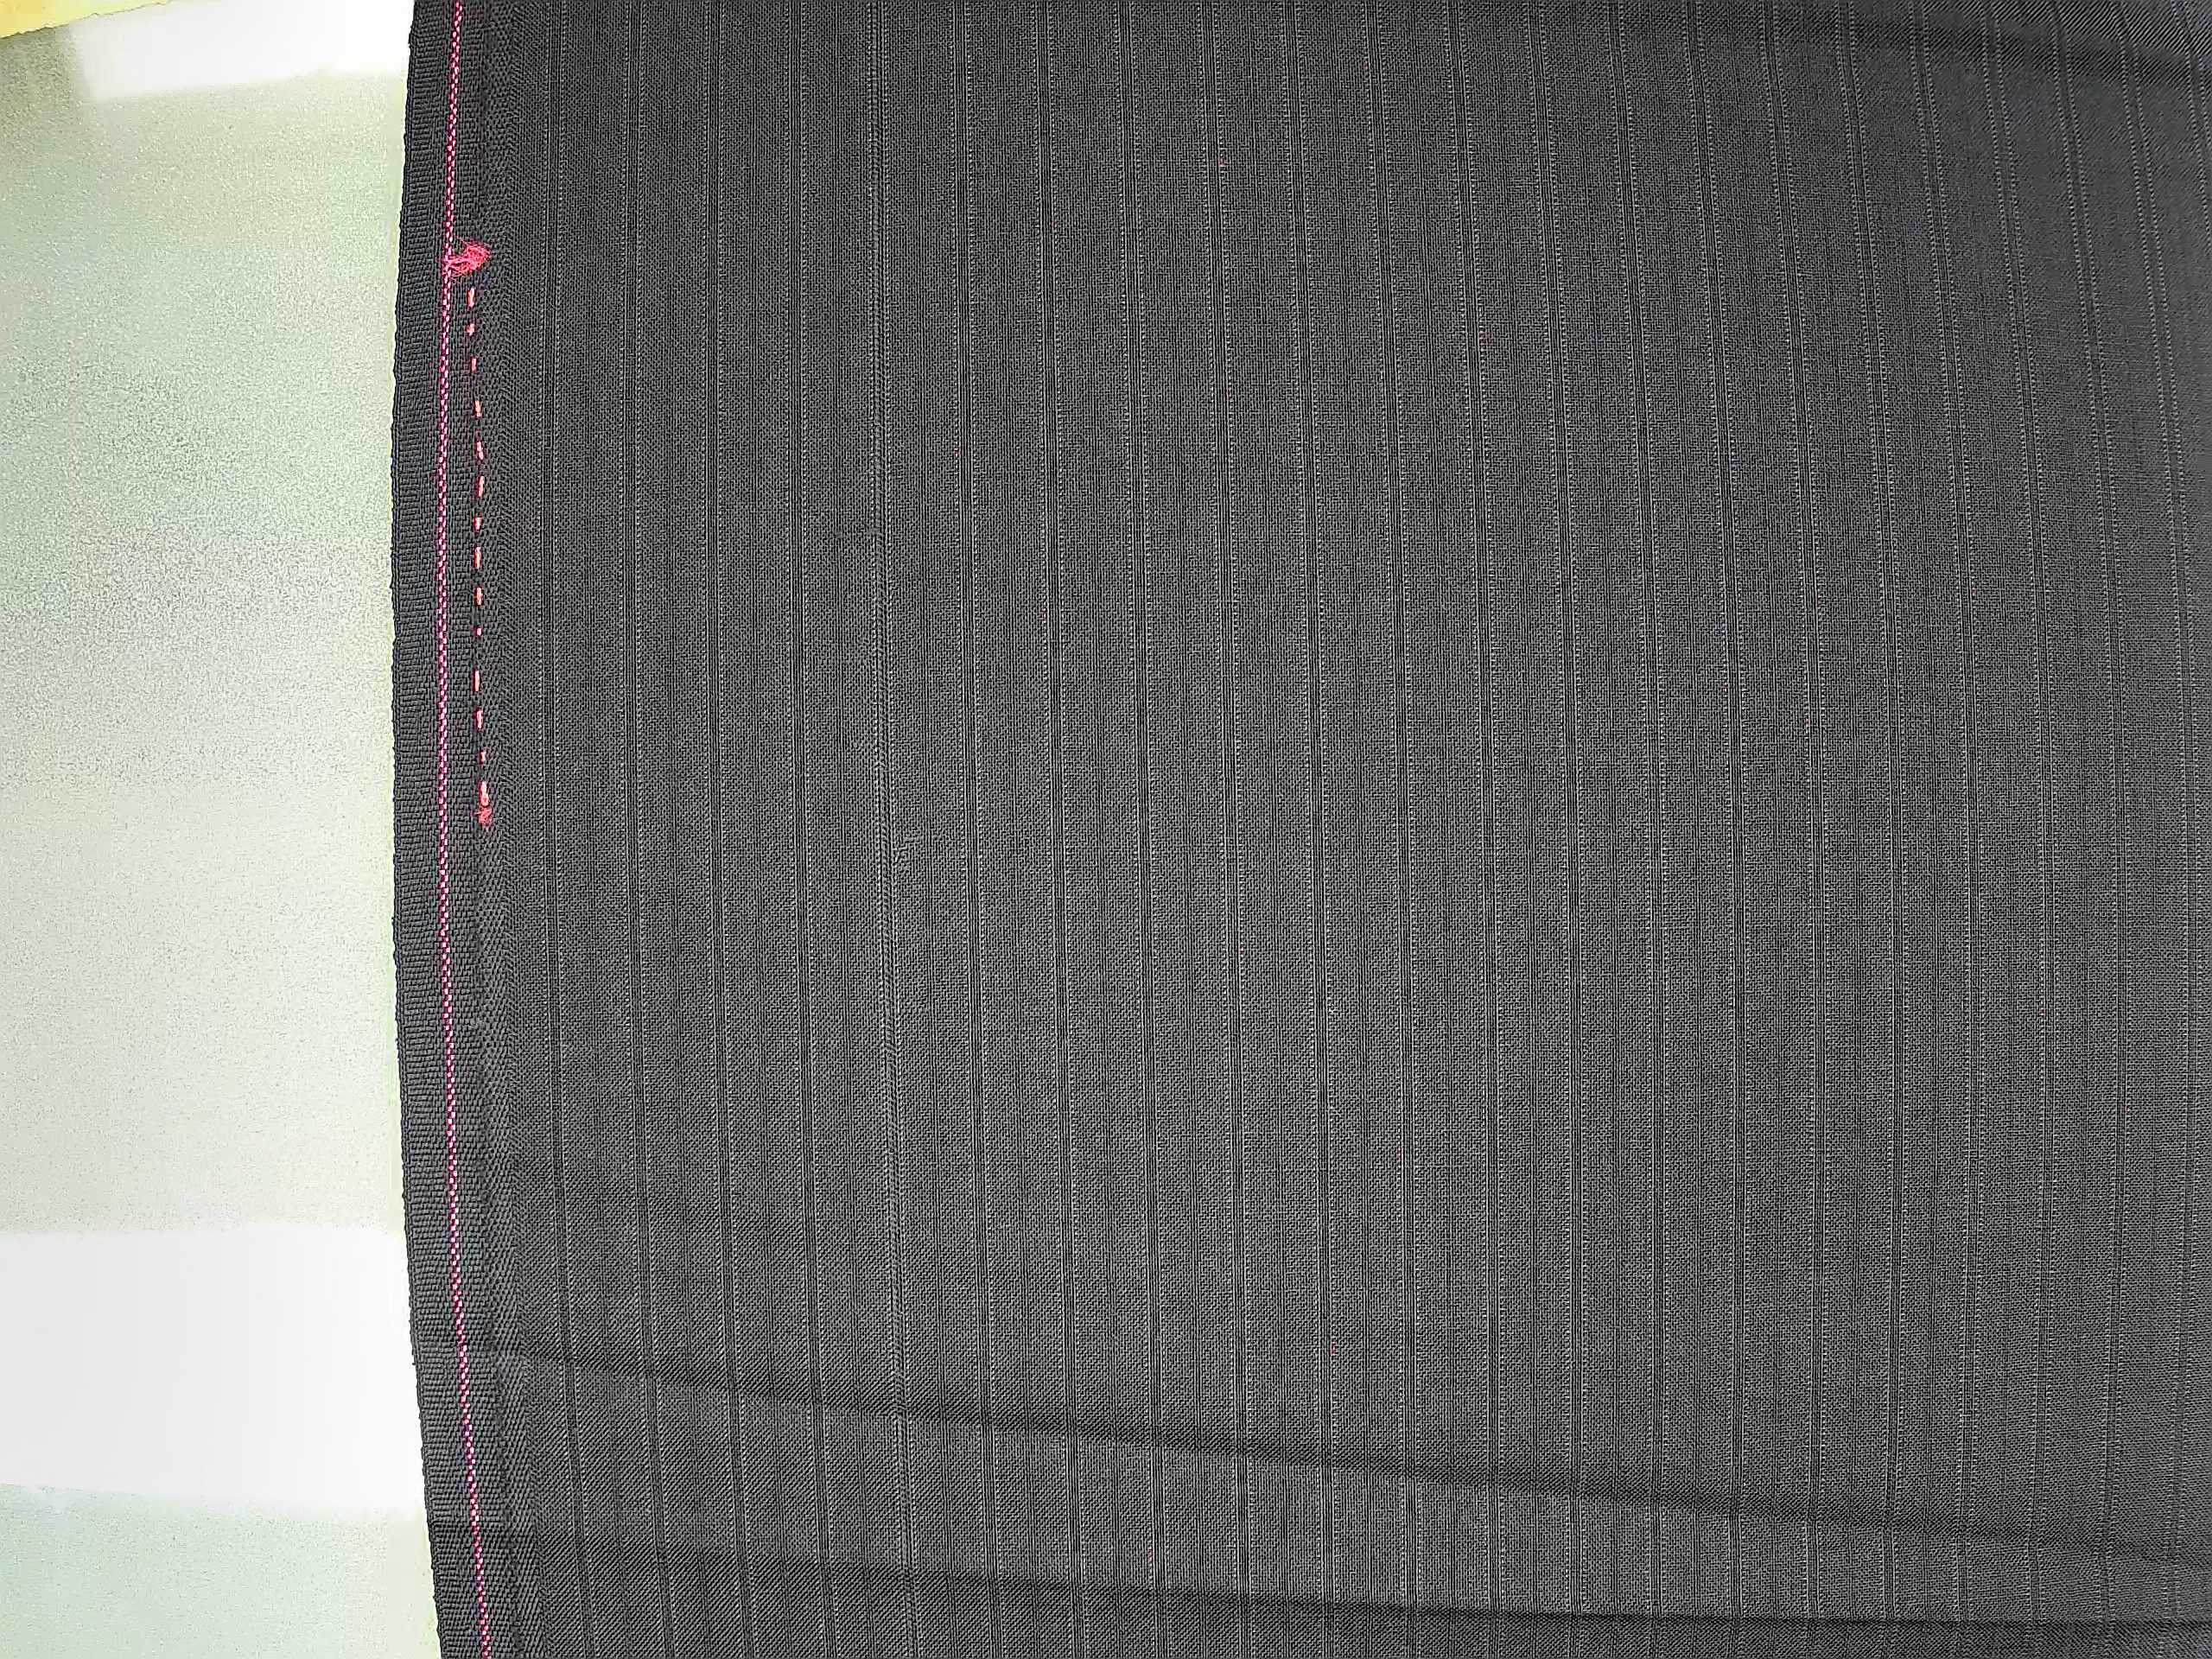jumps: (817, 491, 911, 572)
